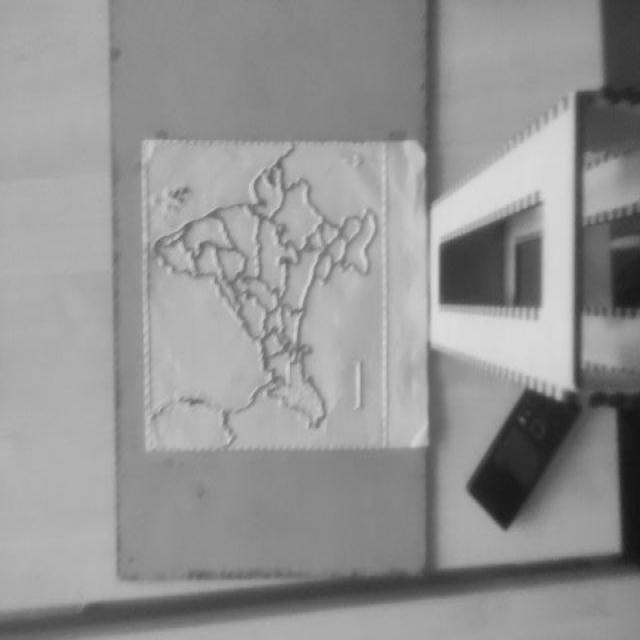map: (142, 137, 388, 451)
